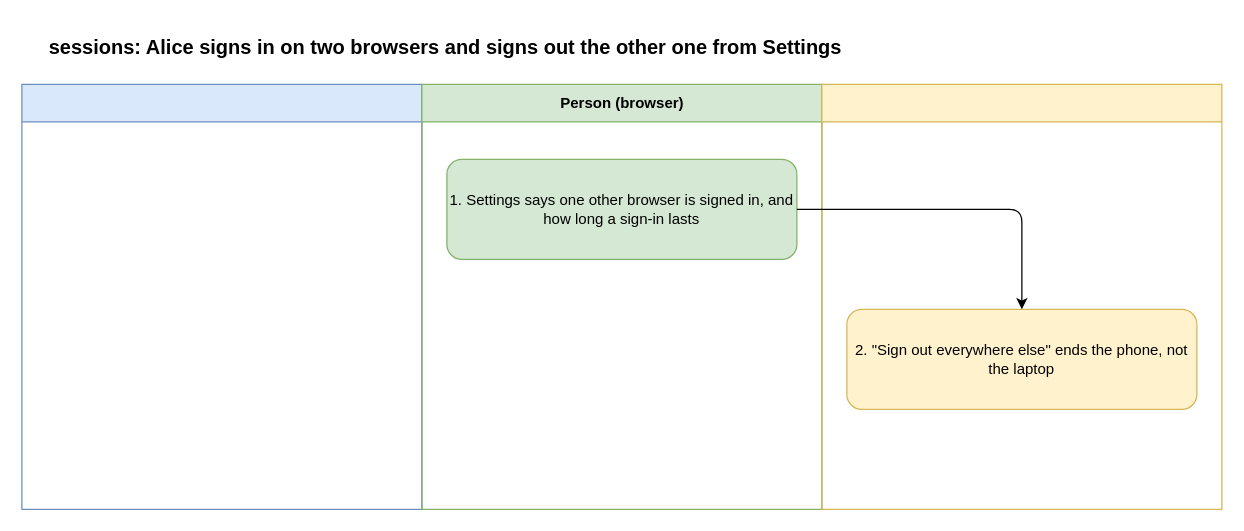
Some shapes in this 1244 by 531 pixel diagram are drawn without their labels. The shapes that lost their labels are listed below. From the top down, each one's box as (x1, y1, x2, y2) in pixels, then its label:
(21, 83, 422, 509): Agent (MCP client)
(821, 83, 1222, 509): Relay
